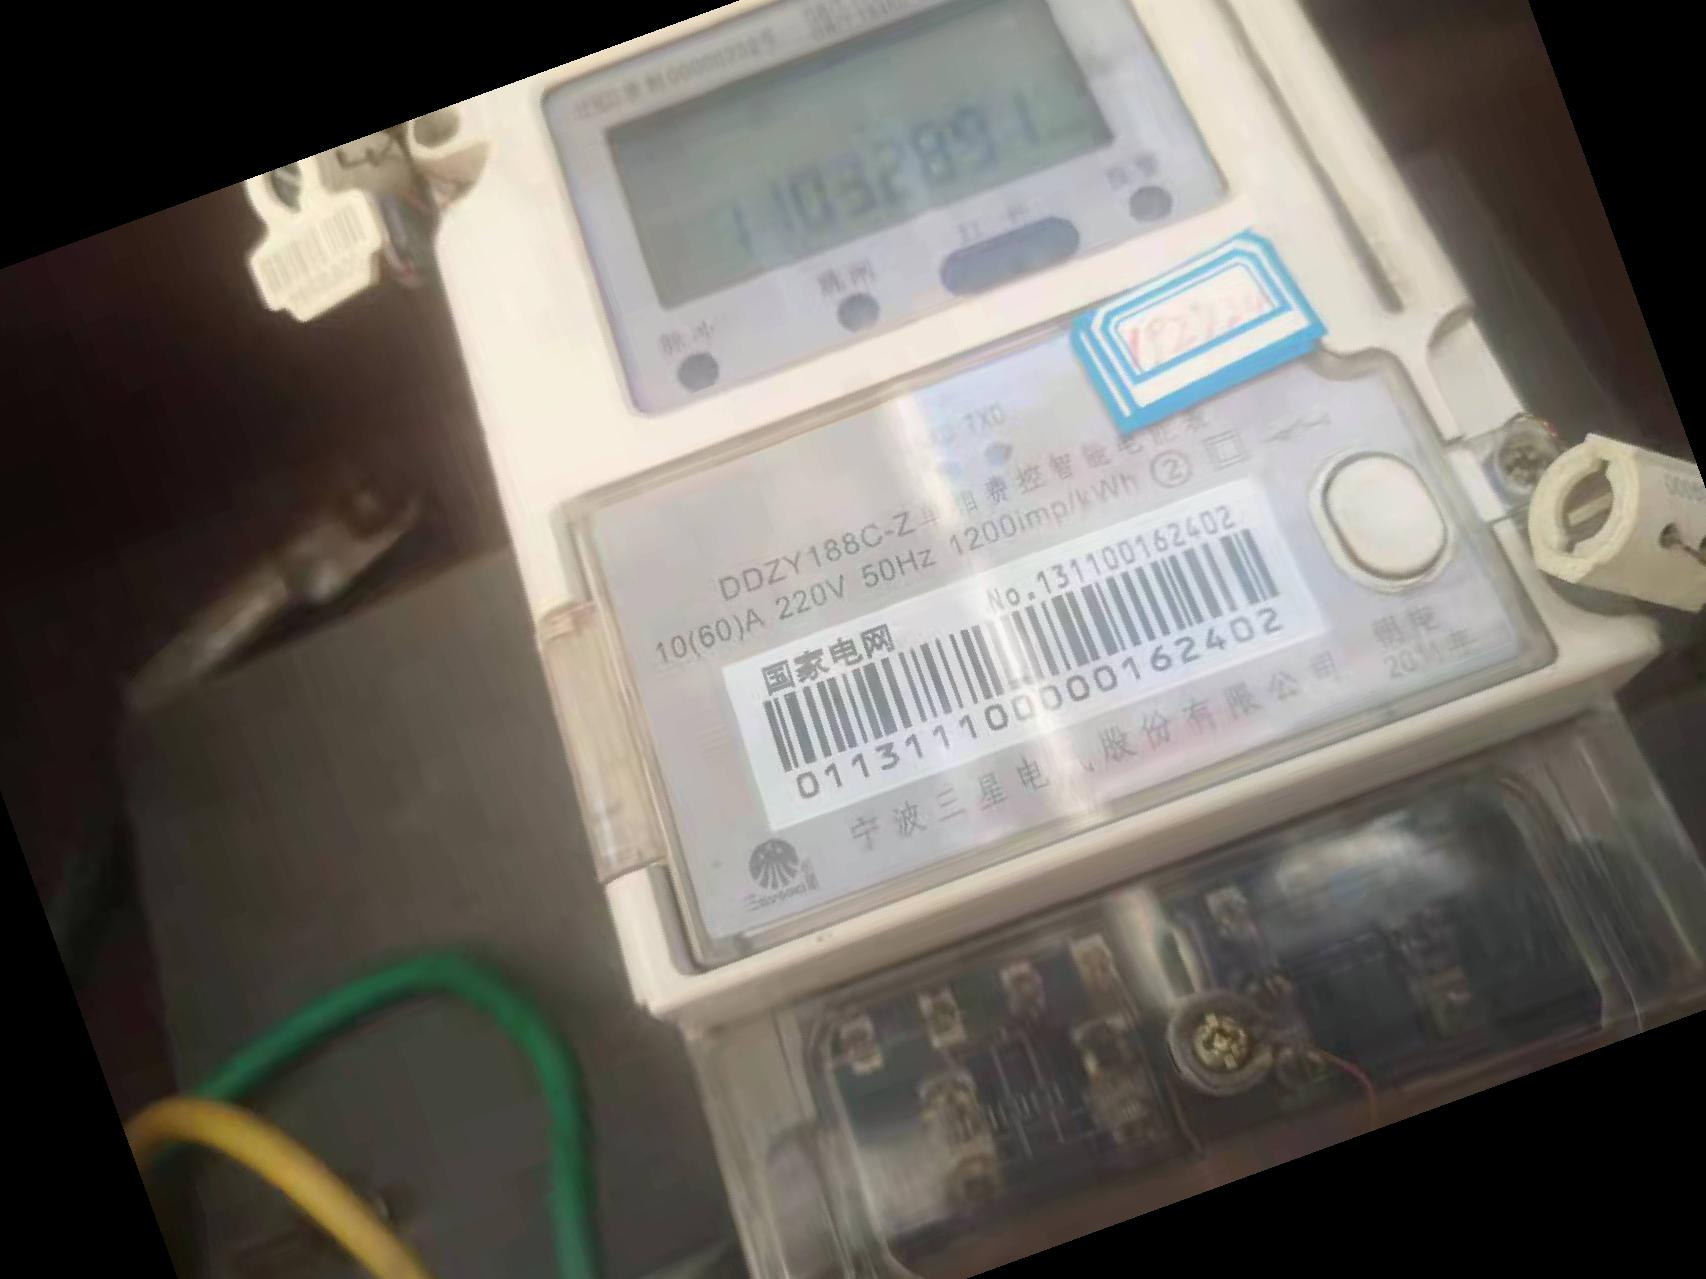digital: (416, 1, 1658, 1002)
